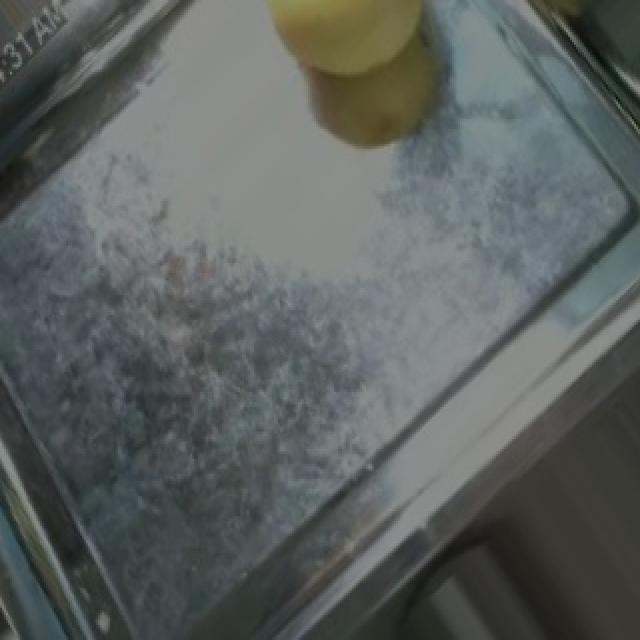Fruit: (230, 0, 474, 176)
